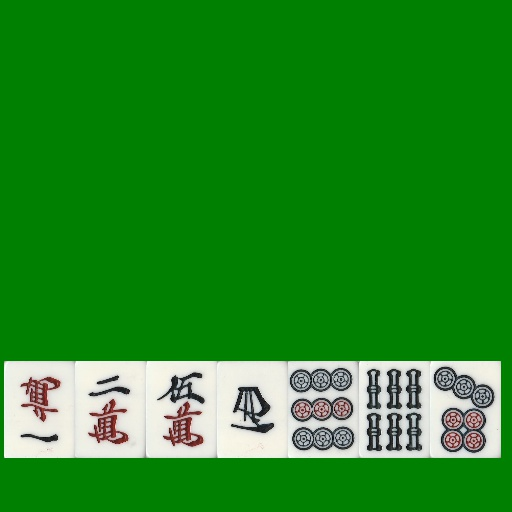1m: (4, 361, 75, 458)
2m: (75, 361, 146, 458)
5m: (146, 361, 217, 458)
6s: (359, 361, 430, 458)
7p: (430, 361, 501, 458)
9p: (288, 361, 359, 458)
west: (217, 361, 288, 458)
